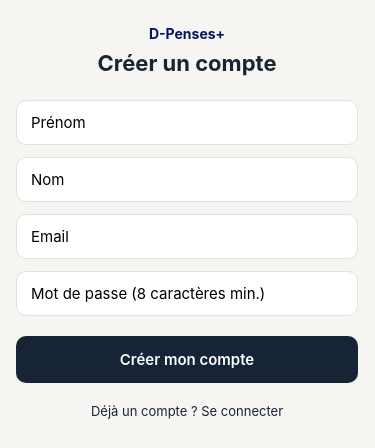
Test: email déjà utilisé (409) → message backend affiché tel quel
Type "Test" into the field with placeholder "Prénom" at (187, 122), box [16,100,358,145]
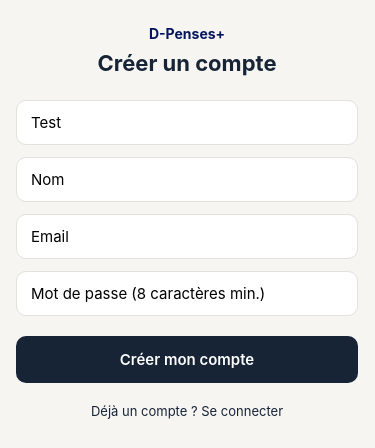
Type "User" into the field with placeholder "Nom" at (187, 180), box [16,157,358,202]
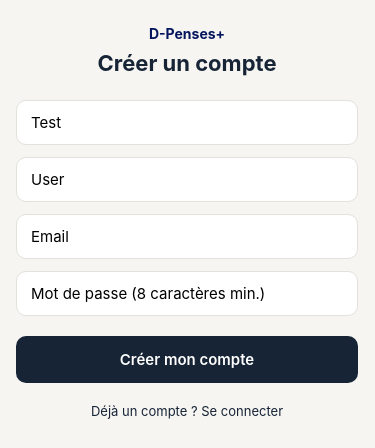
Type "test.user@example.com" into the field with placeholder "Email" at (187, 236), box [16,214,358,259]
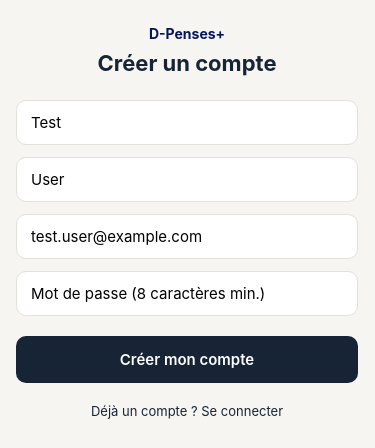
Type "password123" into the password field with placeholder "Mot de passe (8 caractères min.)" at (187, 294), box [16,271,358,316]
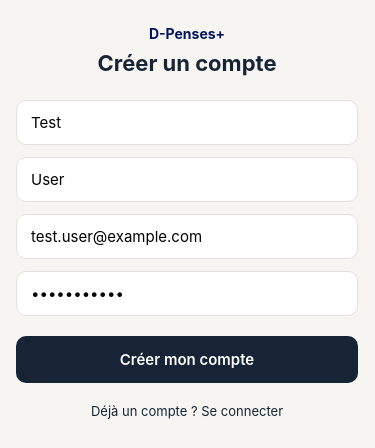
Click the text "Créer mon compte" at (187, 360), box [120,350,254,369]
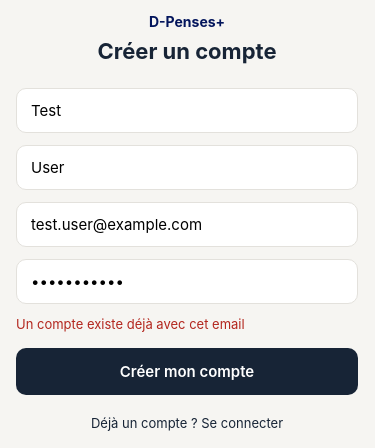
expect the text "Un compte existe déjà avec cet email" is shown: met, box [16,316,245,332]
